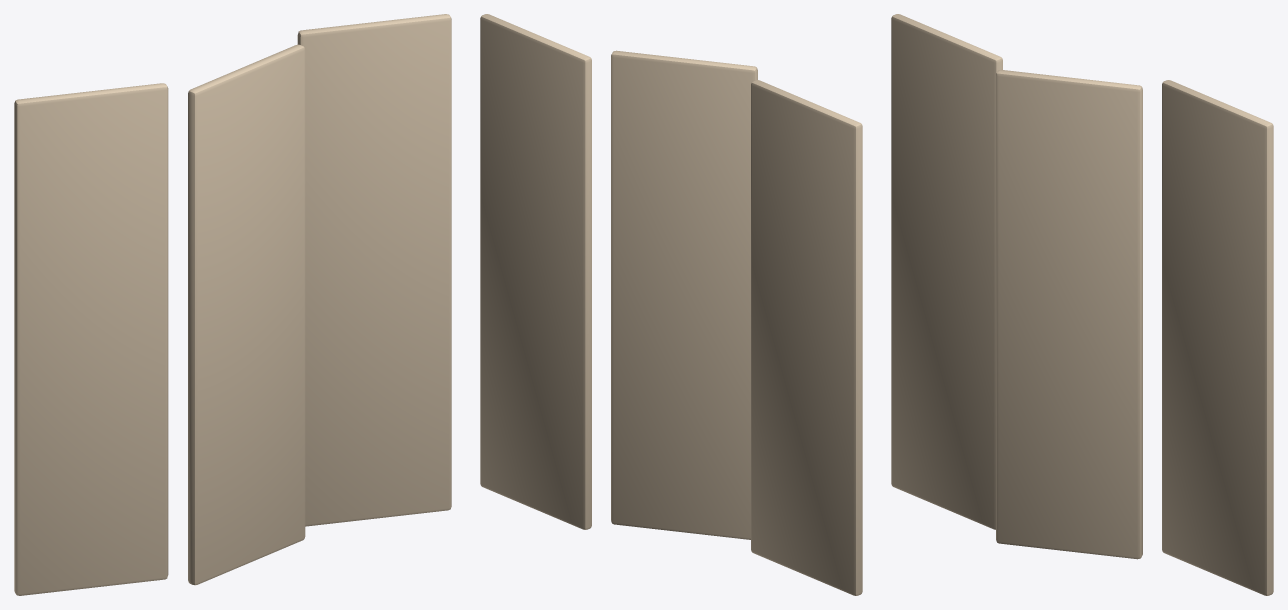
File: washi-folding-screen.glb
3 views of the same model, side by side, from view 1: azimuth 30°, elevation 25°; view 2: azimuth 150°, elevation 25°; view 3: azimuth 330°, elevation 25° (orthographic). The views are drawn at different scales.
Visible parts, largest first — view 1: screen_Frame_0, screen_Frame_2, screen_Frame_1; view 2: screen_Frame_1, screen_Frame_0, screen_Frame_2; view 3: screen_Frame_1, screen_Frame_2, screen_Frame_0.
Part boxes in pixels (box(x1,y1,x2,y2)): screen_Frame_0: box(14, 83, 168, 595); screen_Frame_2: box(297, 14, 451, 526); screen_Frame_1: box(188, 44, 305, 585); screen_Frame_1: box(611, 50, 757, 539); screen_Frame_0: box(751, 80, 862, 595); screen_Frame_2: box(480, 14, 591, 529); screen_Frame_1: box(996, 70, 1142, 559); screen_Frame_2: box(1162, 80, 1273, 595); screen_Frame_0: box(891, 14, 1002, 529).
Size of the model in its own units: 1.76 by 2 by 0.2858.
